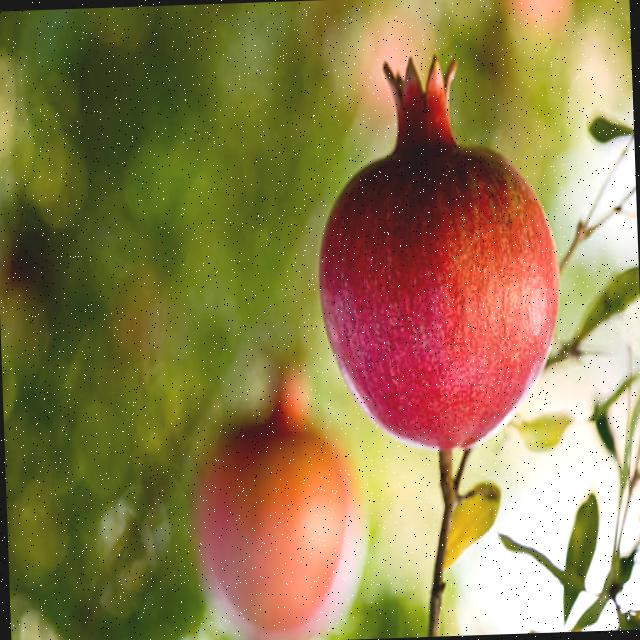Pomegranate: (310, 50, 567, 457)
